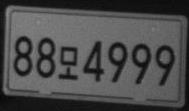4: (82, 40, 105, 82)
8: (35, 36, 56, 78), (13, 34, 33, 76)
9: (154, 44, 176, 85), (131, 42, 152, 84), (107, 41, 128, 82)
모: (58, 45, 78, 80)
